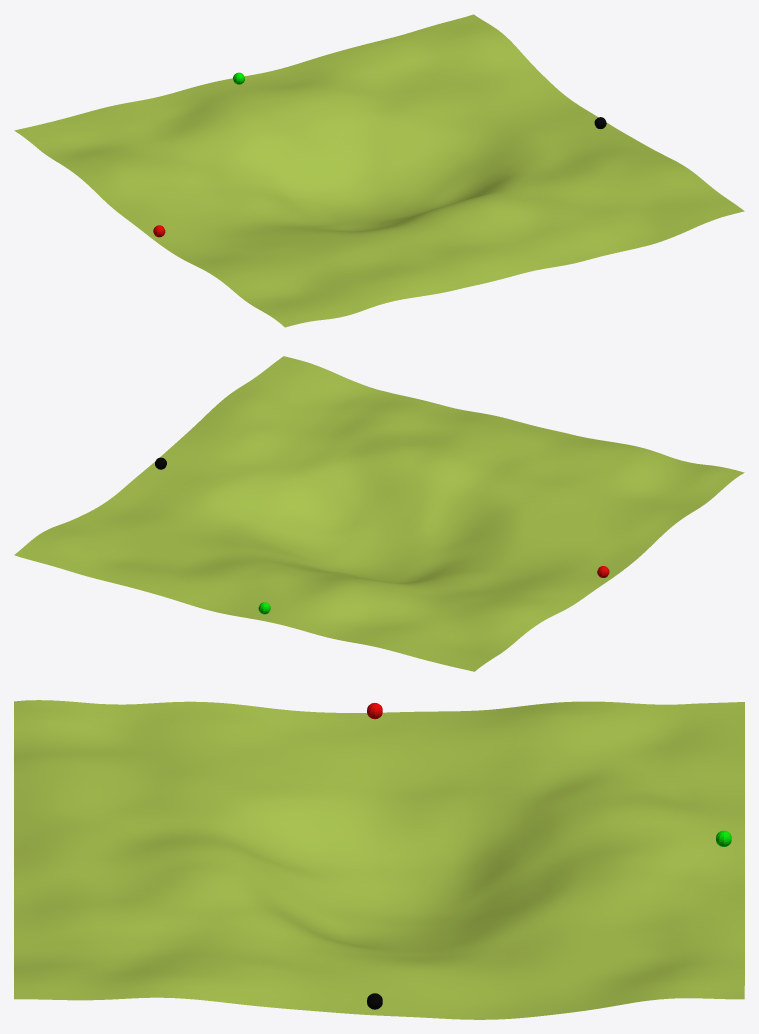
The model's file is marqueurs_bosse_neg1.fbx.
The picture shows the model from 3 angles, top to bottom: view 1: azimuth 30°, elevation 25°; view 2: azimuth 150°, elevation 25°; view 3: azimuth 270°, elevation 25°; orthographic projection. The views are drawn at different scales.
Visible parts, largest first — view 1: bosse_neg1; view 2: bosse_neg1; view 3: bosse_neg1.
Part boxes in pixels (x1=…): bosse_neg1: x1=14, y1=14, x2=744, y2=327; bosse_neg1: x1=14, y1=356, x2=744, y2=671; bosse_neg1: x1=14, y1=700, x2=744, y2=1019.
Size of the model in its own units: 709 by 77.02 by 720.
